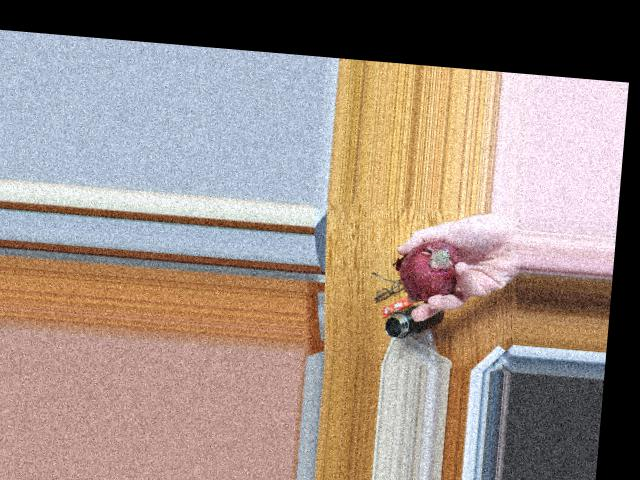onion: (403, 235, 470, 297)
